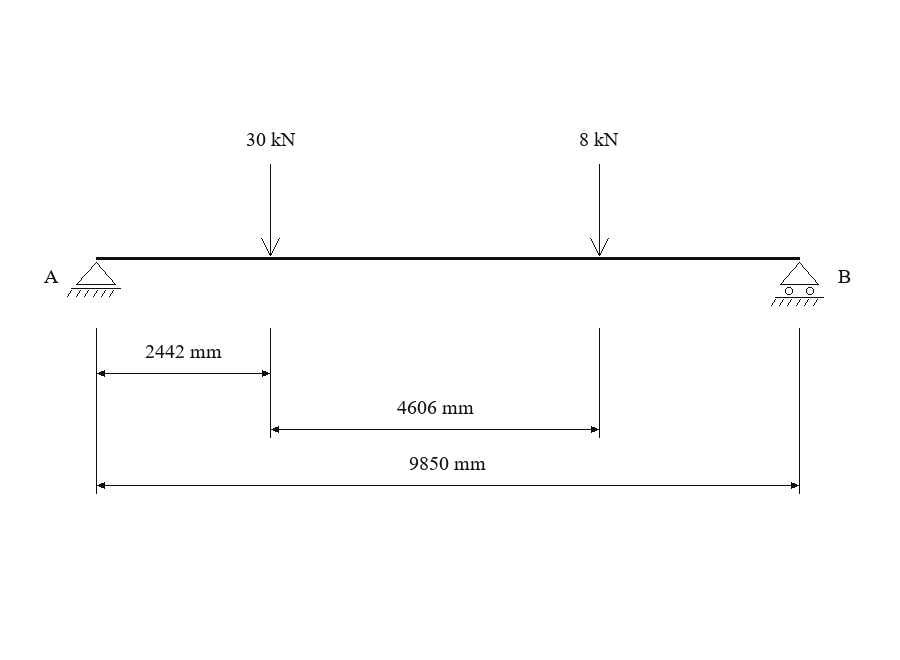pin_support: (67, 262, 121, 297)
point_load: (261, 164, 280, 256), (590, 164, 609, 256)
roller_support: (771, 262, 824, 306)
